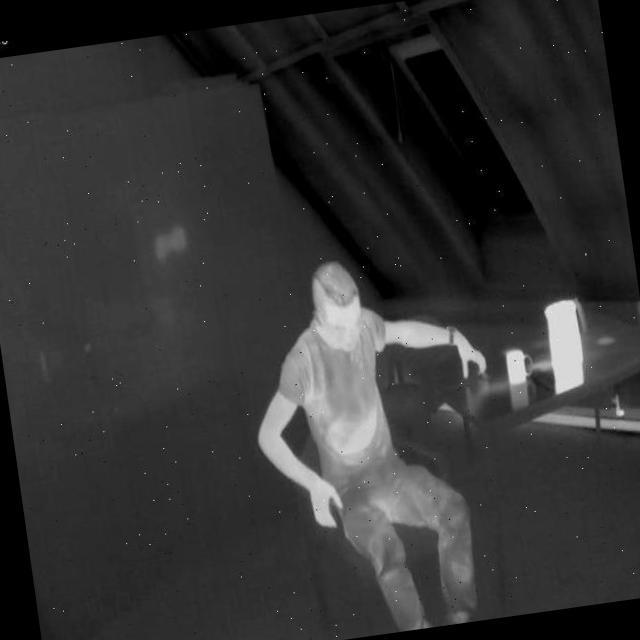person: (234, 242, 512, 640)
